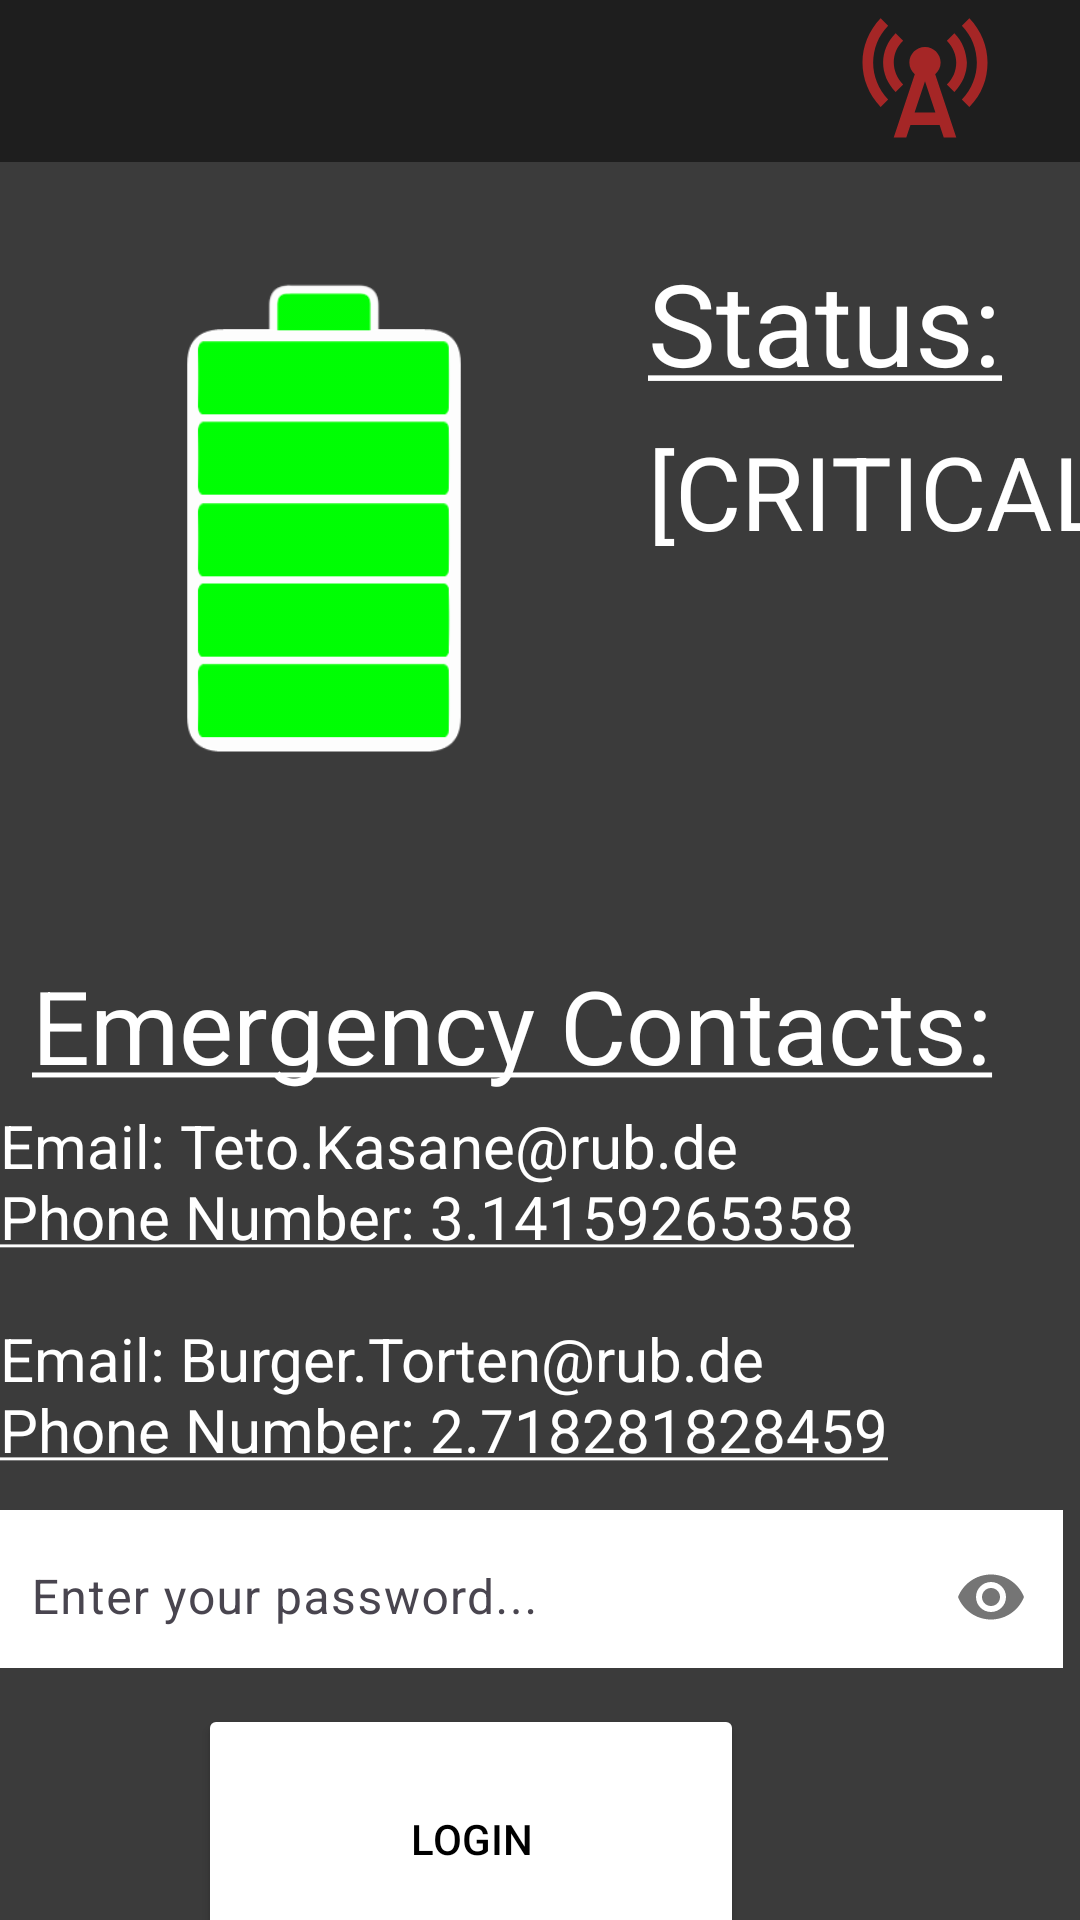

Icons on this 1080w x 1920h Android screen, each with the point to tap as (x=x, y=y):
disconnected: (x=925, y=78)
